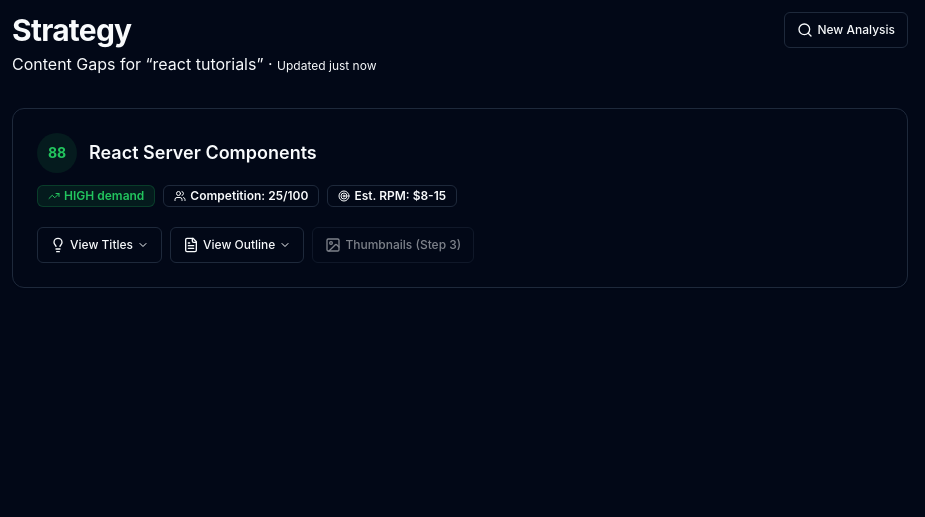
Test case: StrategyPage — existing data on mount › clicking New Analysis returns to idle state
Click the button "New Analysis": (846, 30) [784,12,908,48]
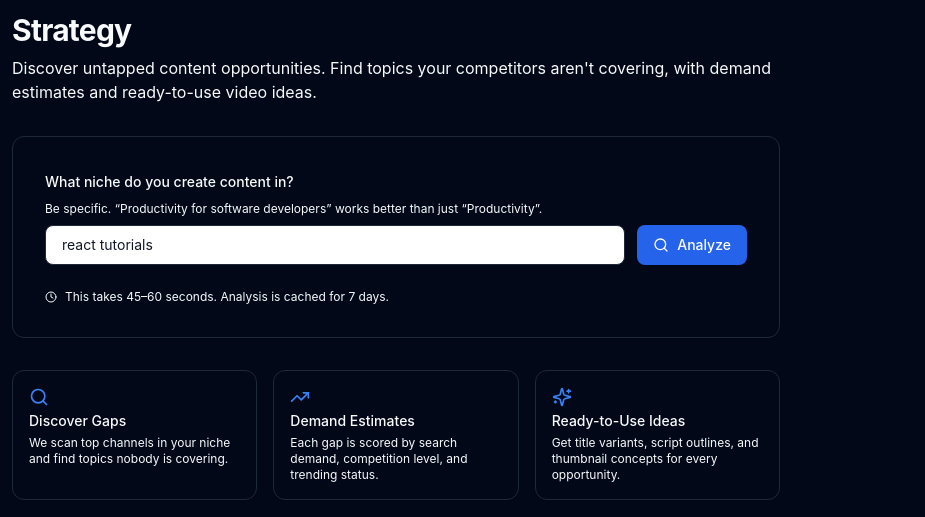
Expected: the text "Discover Gaps" is shown, [29,412,126,429]
